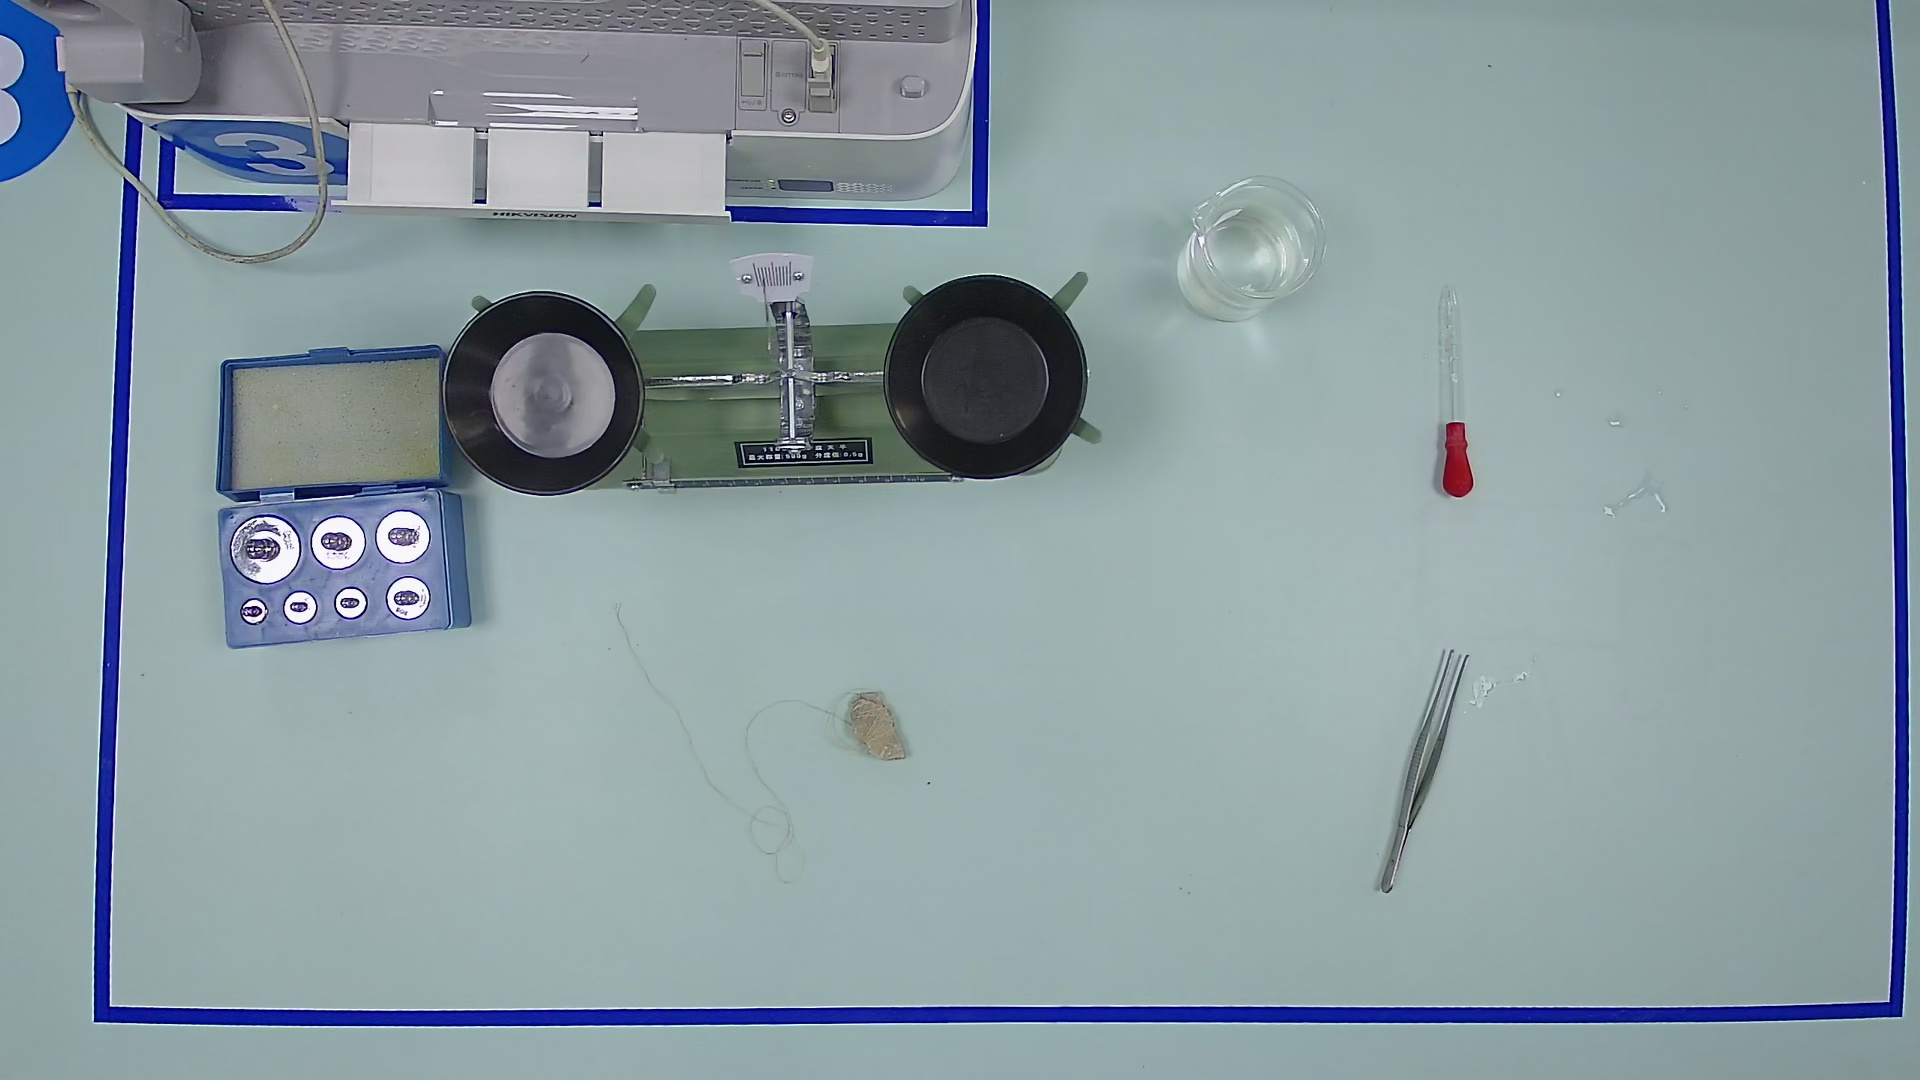bei: (1168, 165, 1333, 328)
diguan: (1412, 269, 1495, 508)
diguantou: (1429, 413, 1487, 504)
fama: (227, 514, 301, 584), (376, 508, 433, 566), (309, 513, 365, 568), (382, 574, 430, 620), (330, 584, 371, 625), (280, 589, 320, 629), (237, 596, 270, 629)
gan: (616, 446, 951, 518)
he: (196, 469, 498, 684)
niezi: (1373, 650, 1478, 905)
pointer: (733, 249, 814, 299)
shi: (835, 683, 924, 771)
tuo: (861, 248, 1114, 509), (425, 276, 666, 516)
you: (645, 452, 680, 502)
